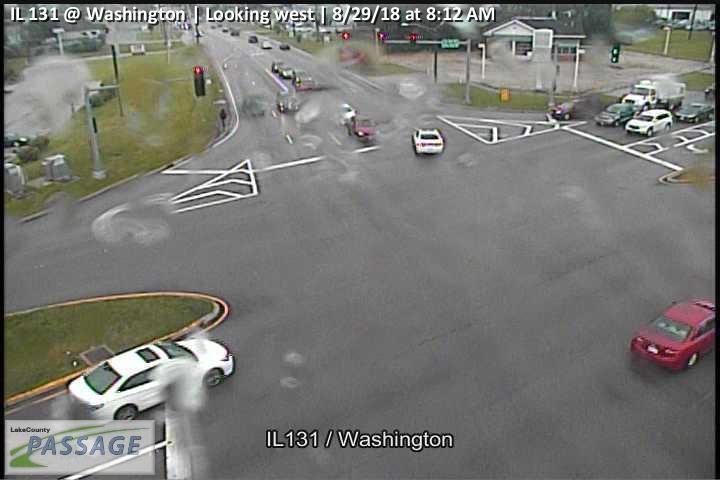Sedan: (65, 337, 234, 428), (627, 295, 717, 370), (625, 109, 673, 136), (674, 101, 716, 126), (411, 126, 445, 156), (595, 103, 636, 127), (280, 66, 296, 76), (271, 58, 283, 71)
Truck: (621, 75, 687, 114)
